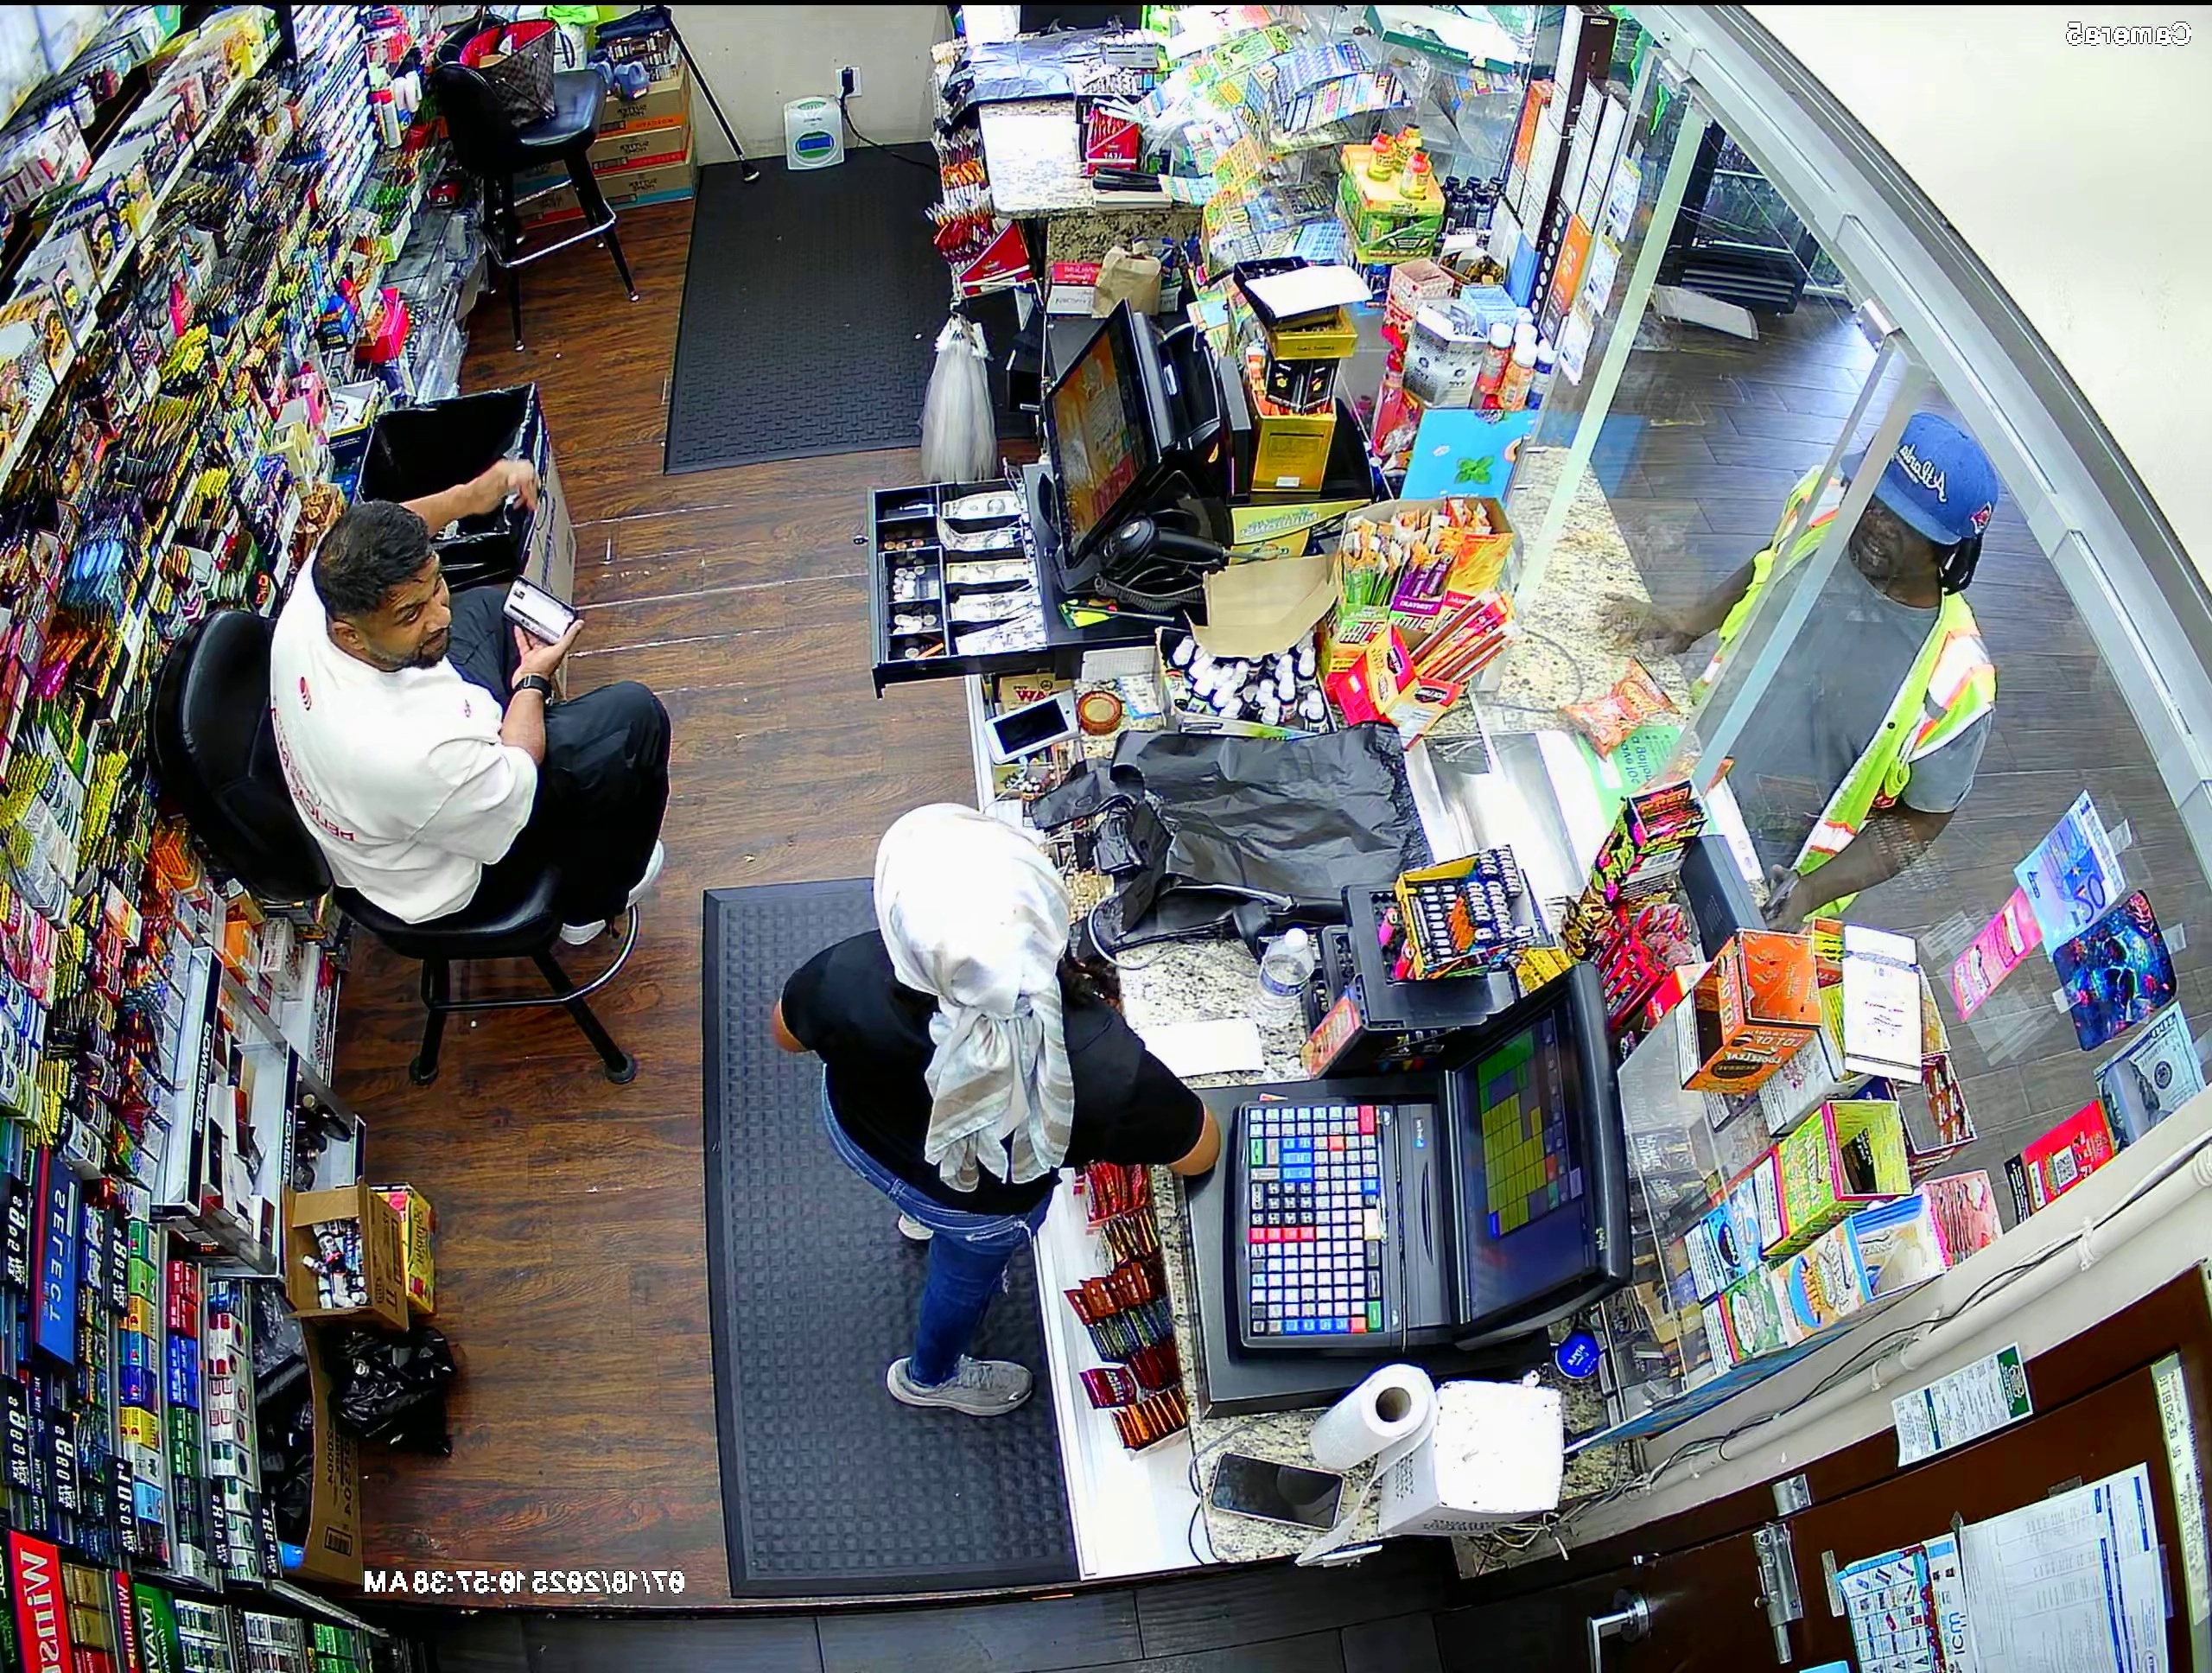phone: (494, 562, 590, 661), (1755, 873, 1797, 931)
